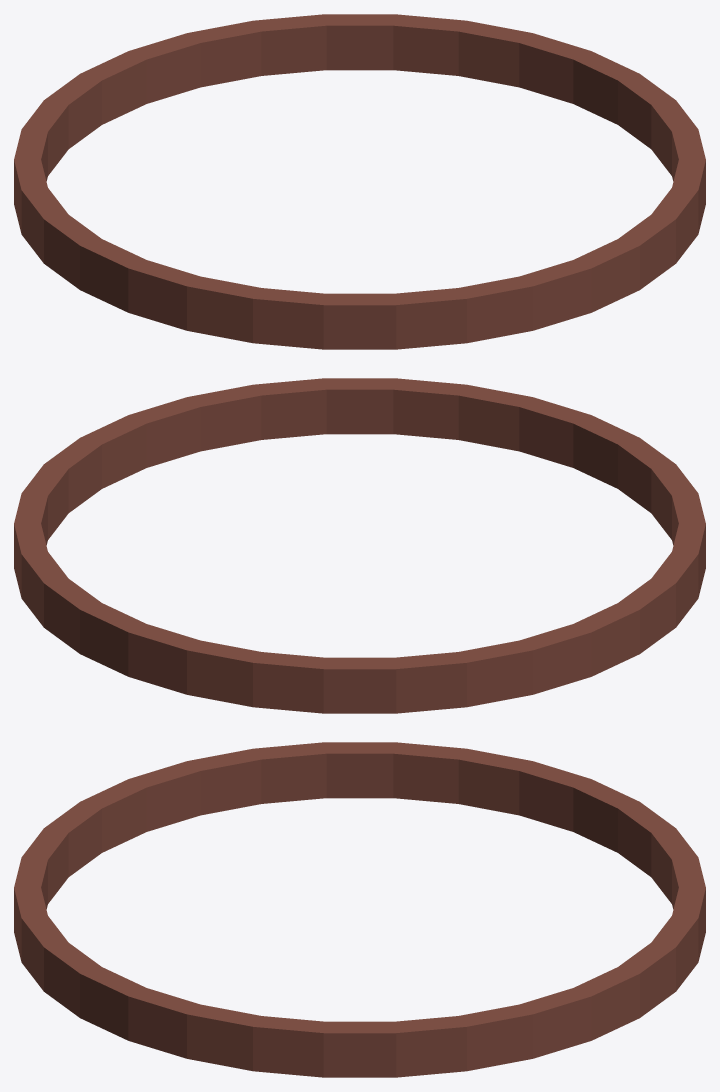
File: Barrier.fbx
3 renders of one model, top to bottom at view 1: azimuth 30°, elevation 25°; view 2: azimuth 150°, elevation 25°; view 3: azimuth 270°, elevation 25°, orthographic.
Visible parts, largest first — view 1: Cylinder; view 2: Cylinder; view 3: Cylinder.
Boxes of the visible parts, left/top/right/bottom form: Cylinder: left=14, top=14, right=705, bottom=349; Cylinder: left=14, top=378, right=705, bottom=713; Cylinder: left=14, top=742, right=705, bottom=1077.
Bounding box in the file's own units: 4065 × 290 × 4087.
